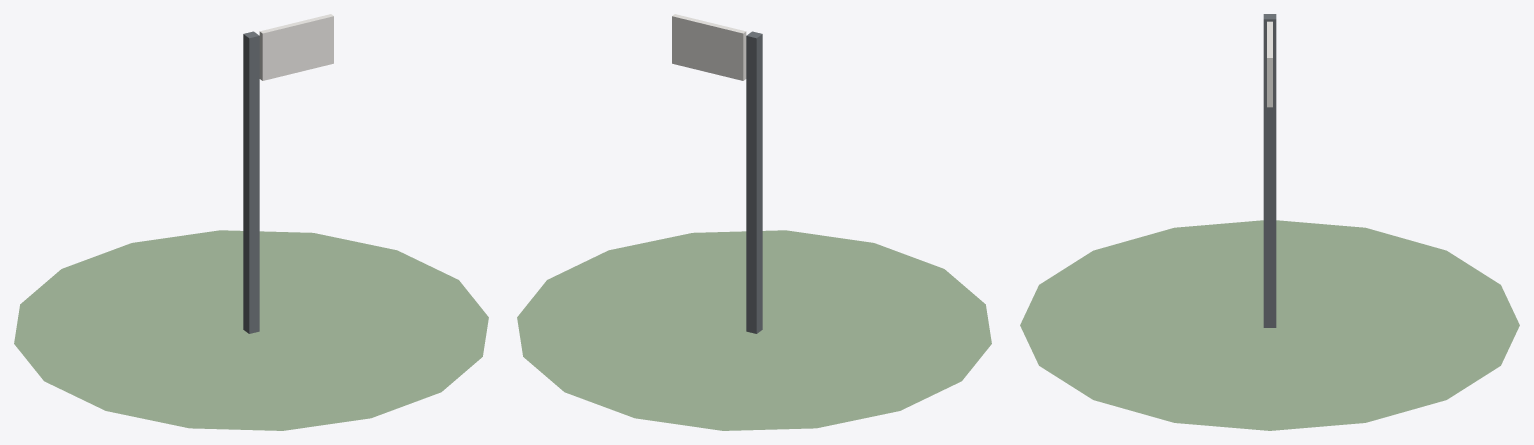
The model's file is golf-area.glb.
The picture shows the model from 3 angles, left to right: view 1: azimuth 30°, elevation 25°; view 2: azimuth 150°, elevation 25°; view 3: azimuth 270°, elevation 25°; orthographic projection. The views are drawn at different scales.
Parts seen in each view (by area): view 1: spatial-root; view 2: spatial-root; view 3: spatial-root.
Boxes of the visible parts, box(x1,y1,x2,y2) form: spatial-root: box(14, 14, 488, 430); spatial-root: box(517, 14, 991, 430); spatial-root: box(1020, 14, 1519, 430).
Size of the model in its own units: 3.2 by 2.2 by 3.2.
